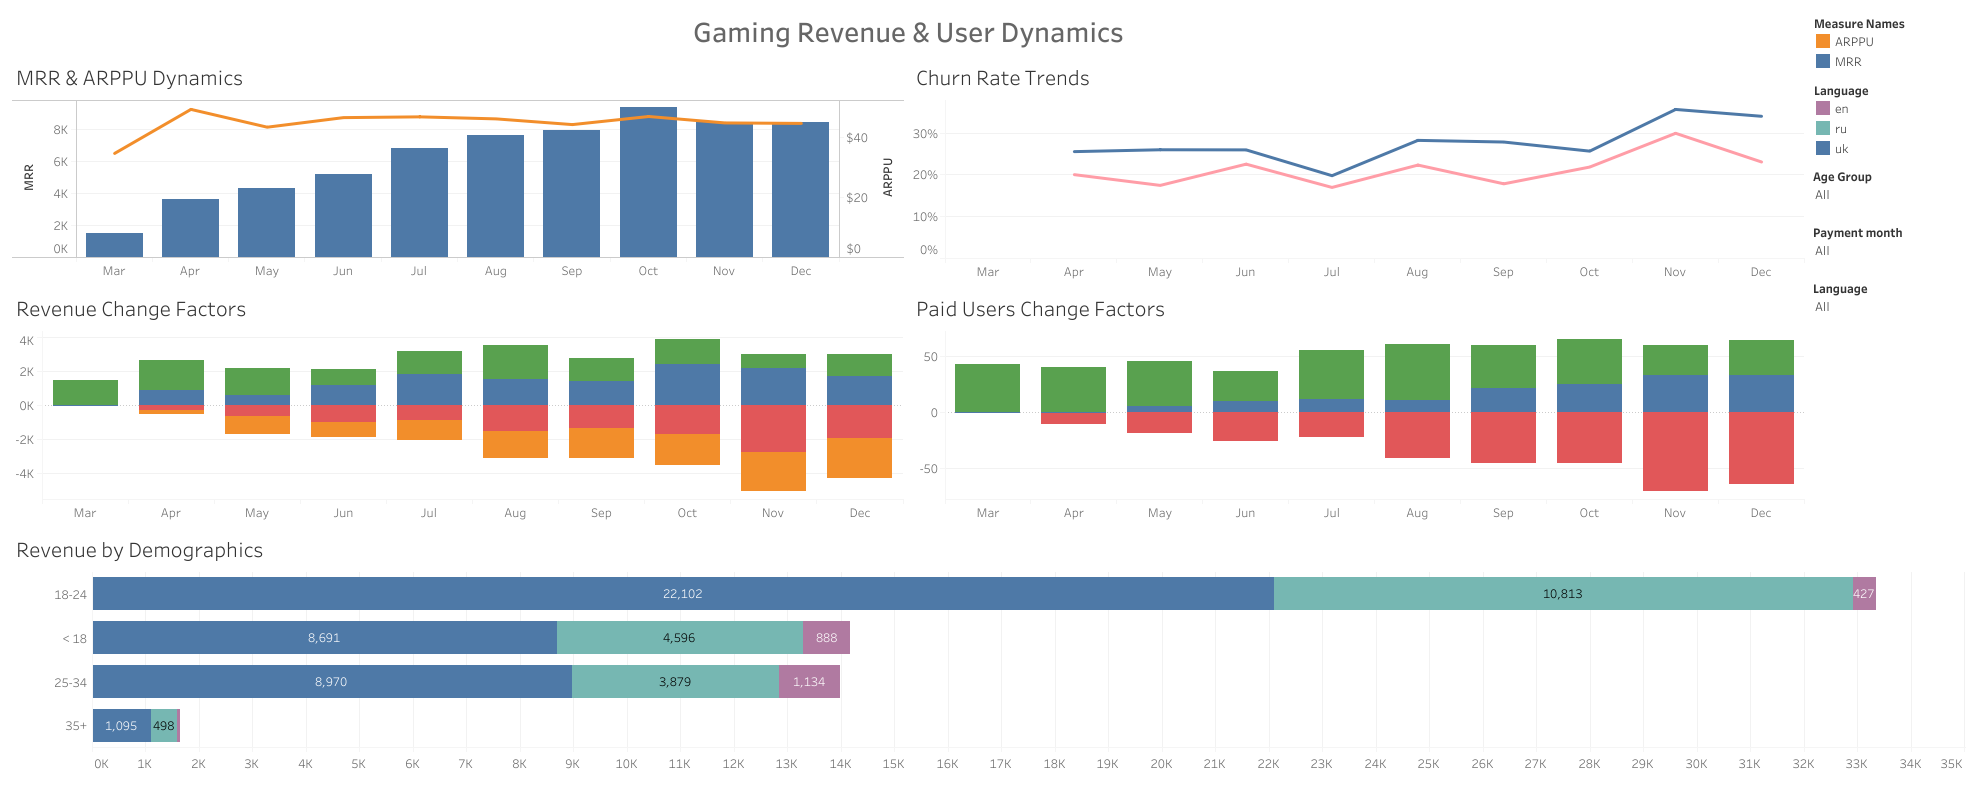

What the dashboard file says about the page in this screenshot:
{"tool":"tableau","page":{"name":"Gaming Revenue & User Dynamics","canvas":[1000,1000],"units":"permille","ordinal":0},"visuals":[{"type":"text","box":[4.8,9.4,893.8,56.6]},{"type":"legend","title":"MRR & ARPPU Dynamics","param":"[federated.1eq5px008qt76f1g9lhge1vj55rf].[:Measure Names]","box":[898.6,9.4,96.6,84.6]},{"type":"worksheet","title":"MRR & ARPPU Dynamics","mark":"Automatic","rows":["mrr","Calculation_1120183883788289"],"cols":["payment_month"],"box":[4.8,66,446.8,293.1]},{"type":"worksheet","title":"Churn Rate Trends","mark":"Line","cols":["payment_month"],"box":[451.6,66,447,293.1]},{"type":"legend","title":"Revenue by Demographics","param":"[federated.1eq5px008qt76f1g9lhge1vj55rf].[none:language:nk]","box":[898.6,94,96.6,109.3]},{"type":"filter","title":"Revenue by Demographics","param":"[federated.1eq5px008qt76f1g9lhge1vj55rf].[none:Calculation_1120183914127370:nk]","box":[898.6,203.3,96.6,71.7]},{"type":"filter","title":"MRR & ARPPU Dynamics","param":"[federated.1eq5px008qt76f1g9lhge1vj55rf].[tmn:payment_month:ok]","box":[898.6,275,96.6,71.7]},{"type":"filter","title":"Revenue by Demographics","param":"[federated.1eq5px008qt76f1g9lhge1vj55rf].[none:language:nk]","box":[898.6,346.7,96.6,71.7]},{"type":"worksheet","title":"Revenue Change Factors","mark":"Bar","cols":["payment_month"],"box":[4.8,359.2,446.8,307]},{"type":"worksheet","title":"Paid Users Change Factors","mark":"Bar","cols":["payment_month"],"box":[451.6,359.2,447,307]},{"type":"worksheet","title":"Revenue by Demographics","mark":"Automatic","rows":["Calculation_1120183914127370"],"cols":["mrr"],"box":[4.8,666.2,990.3,324.4]}]}

Visuals, with their boxes on the dashboard's canvas, which has no fixed pixel size, in thousandths of its width and height (x1, y1, x2, y2). These are canvas units, not pixel positions in the 1976x788 screenshot, which may show the page scaled, cropped or inside an application window:
text: (5,9,899,66)
"MRR & ARPPU Dynamics" legend: (899,9,995,94)
"MRR & ARPPU Dynamics" worksheet: (5,66,452,359)
"Churn Rate Trends" worksheet (Line marks): (452,66,899,359)
"Revenue by Demographics" legend: (899,94,995,203)
"Revenue by Demographics" filter: (899,203,995,275)
"MRR & ARPPU Dynamics" filter: (899,275,995,347)
"Revenue by Demographics" filter: (899,347,995,418)
"Revenue Change Factors" worksheet (Bar marks): (5,359,452,666)
"Paid Users Change Factors" worksheet (Bar marks): (452,359,899,666)
"Revenue by Demographics" worksheet: (5,666,995,991)
